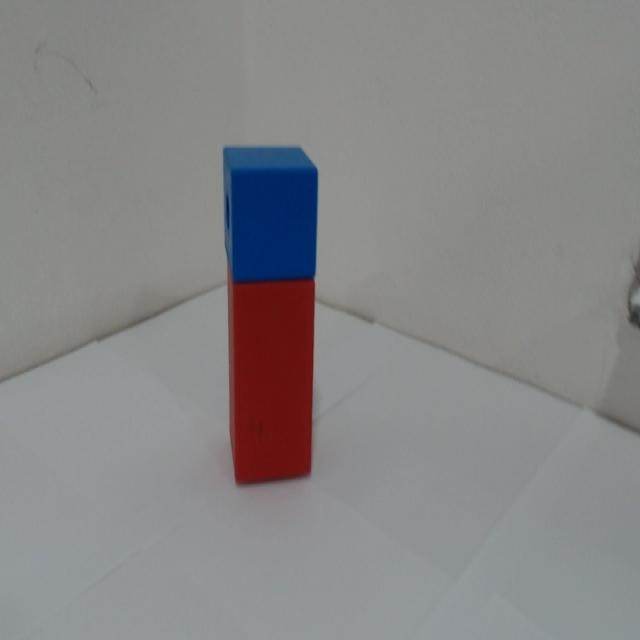cube: (206, 104, 375, 281)
